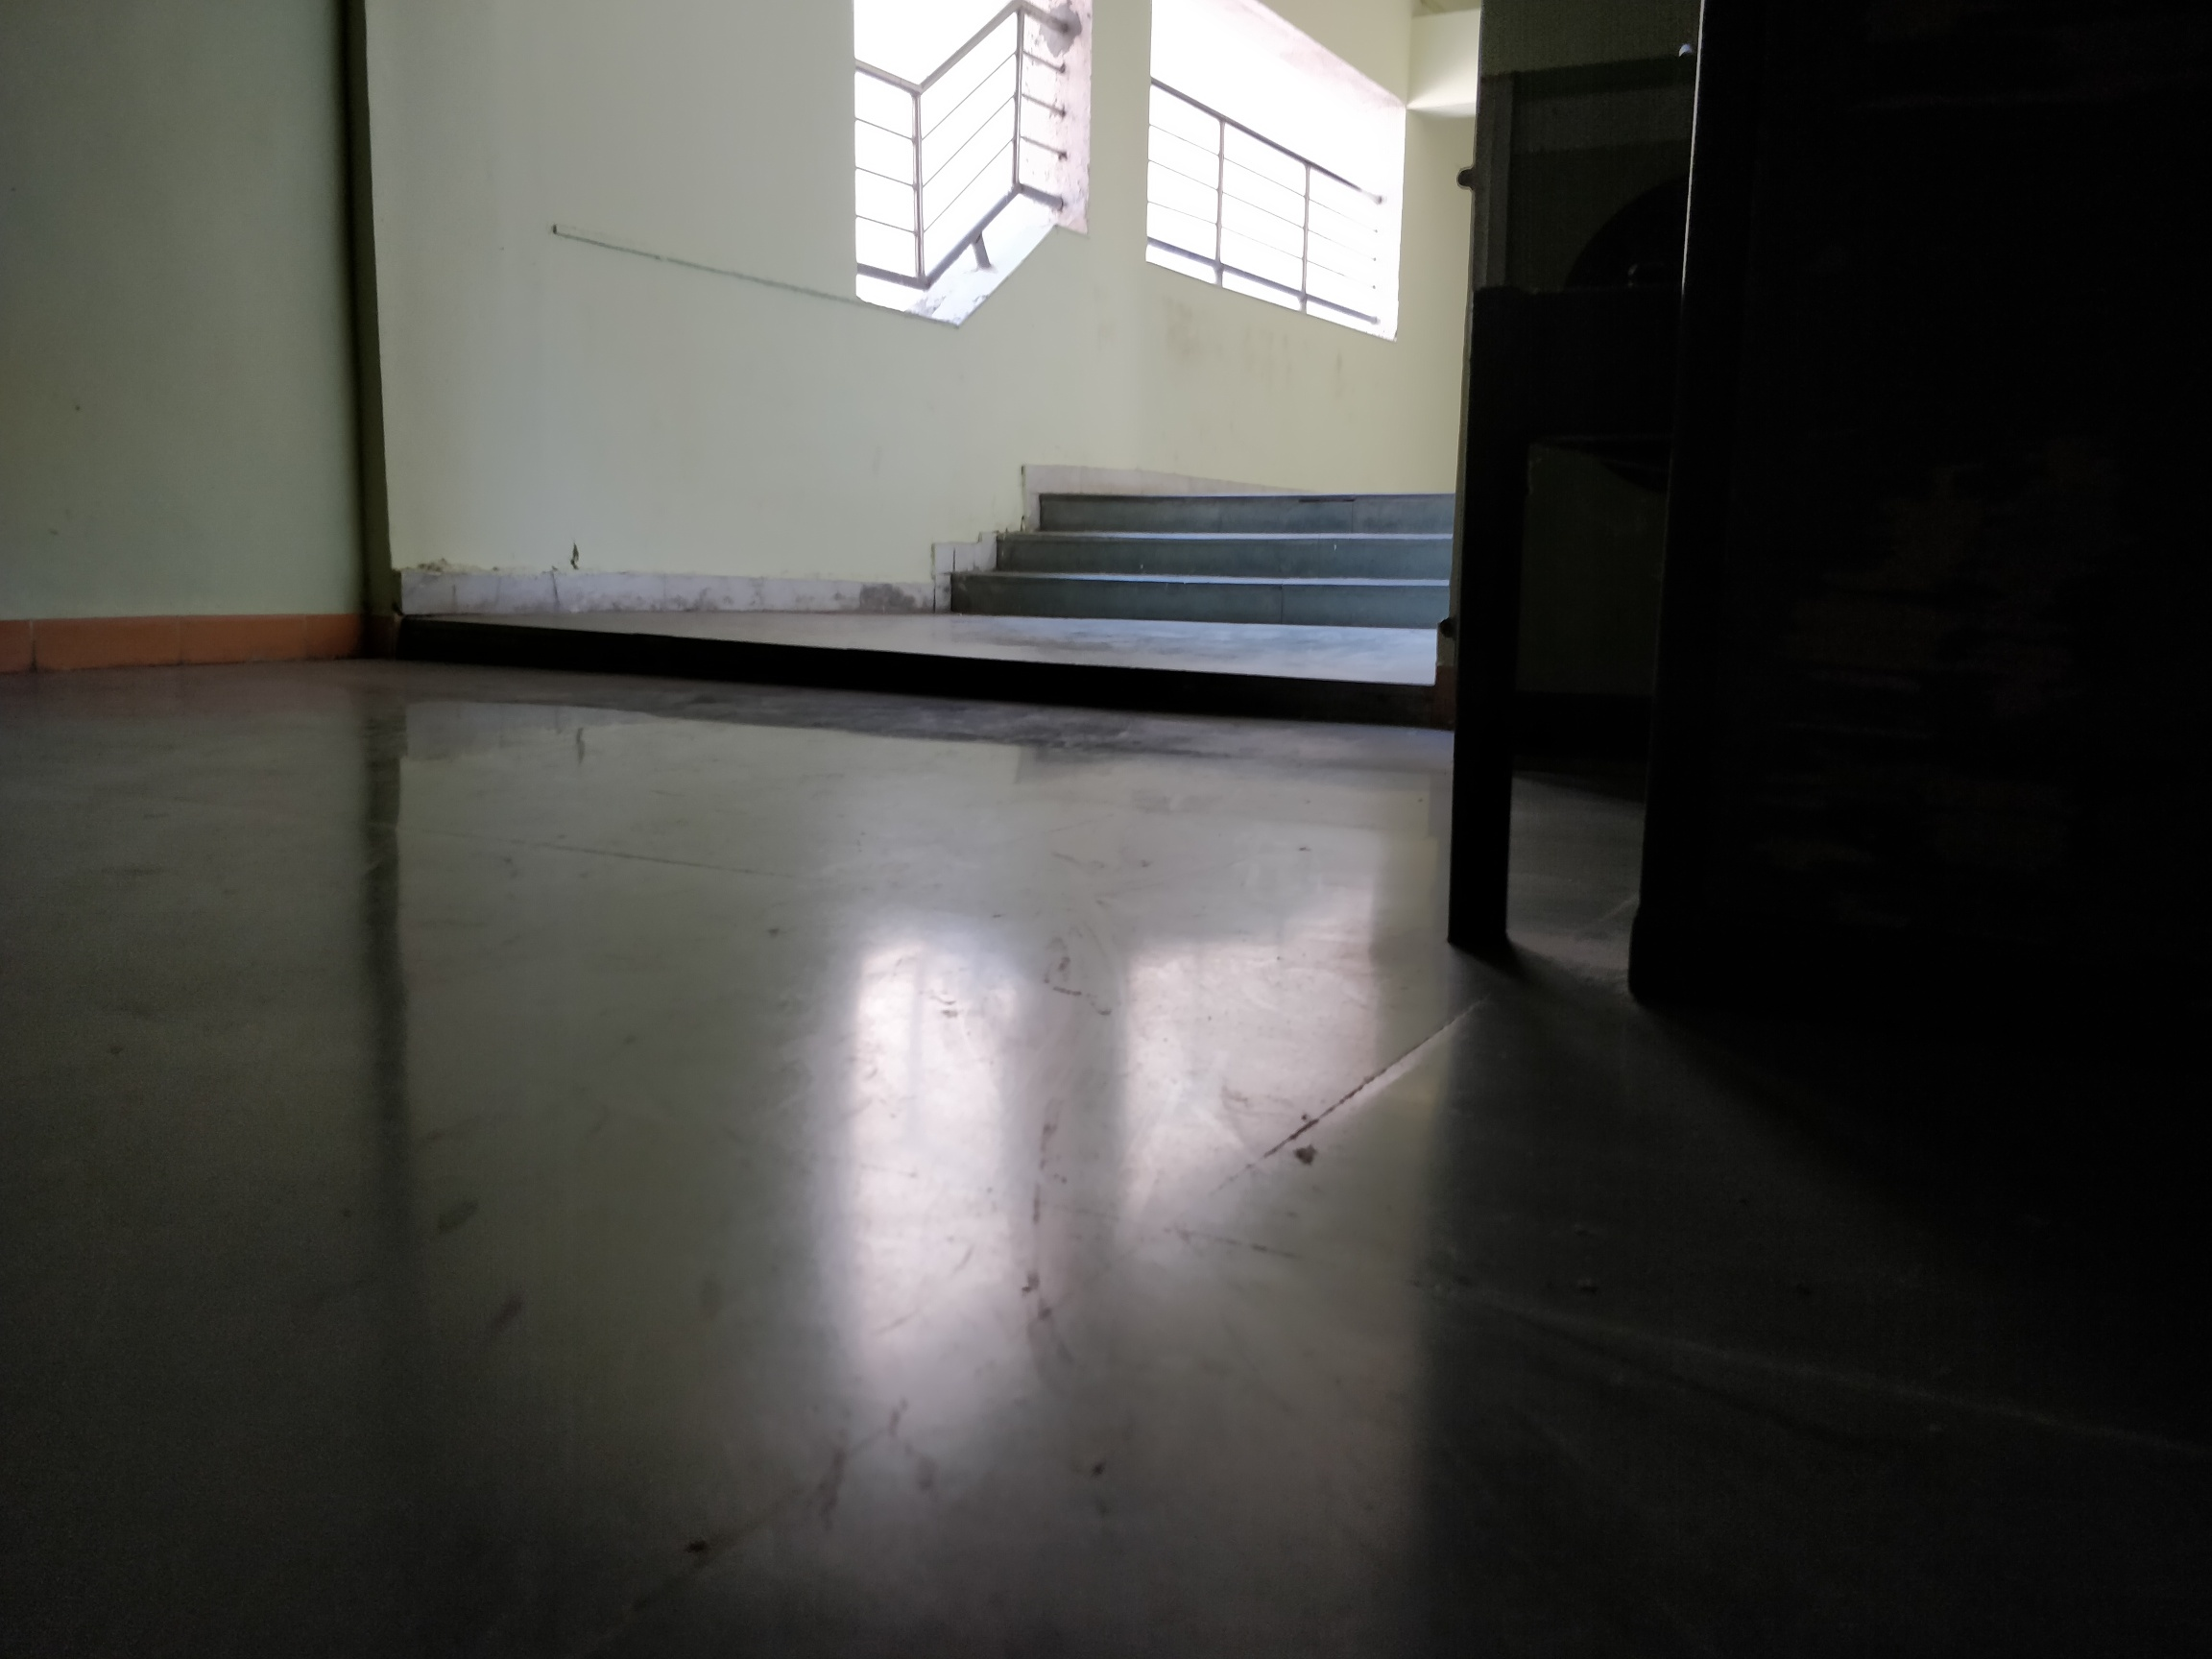stairs_up: (944, 484, 1454, 610)
